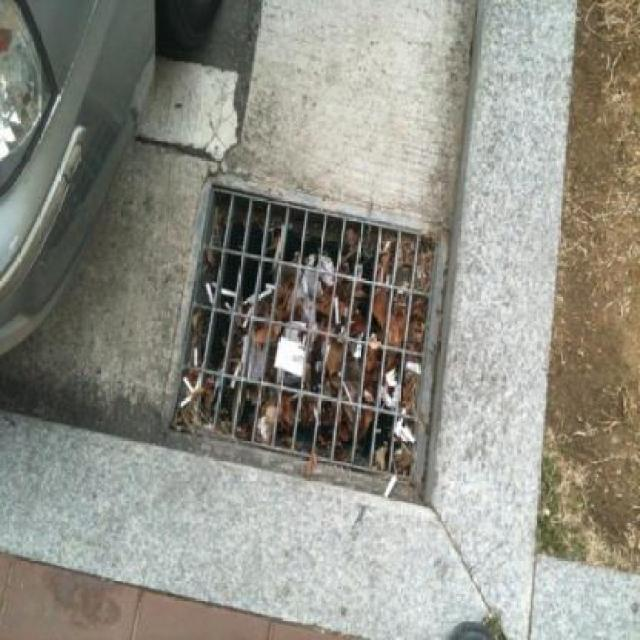Drain Hole: (209, 138, 466, 520)
